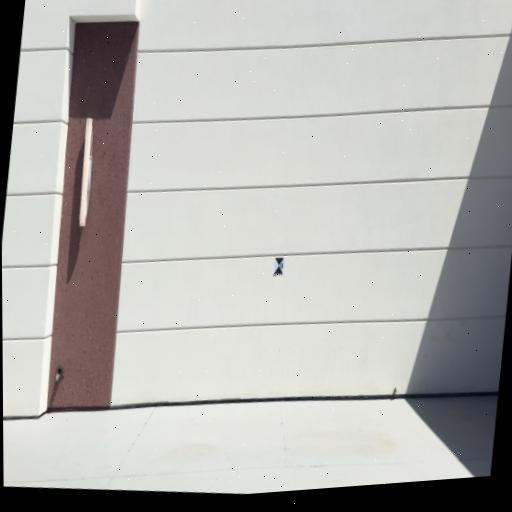target0: (273, 257, 285, 276)
